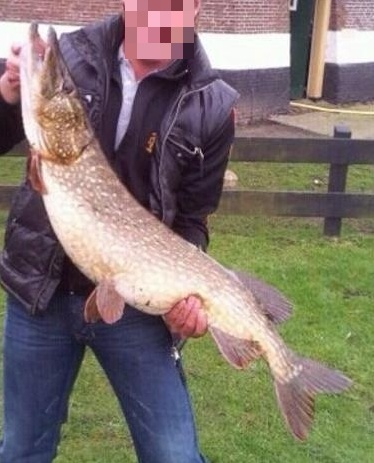Esox lucius: (20, 20, 354, 443)
